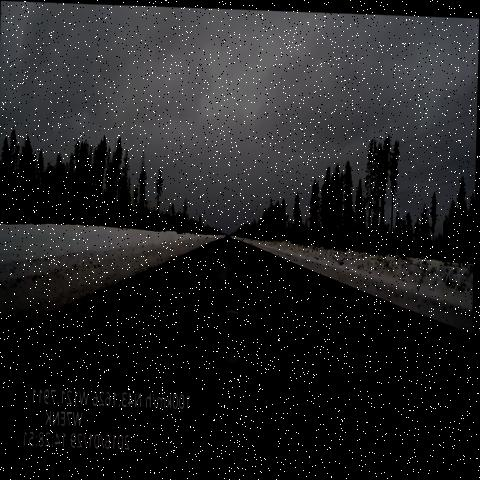pothole: (221, 337, 247, 370), (223, 296, 248, 330), (139, 317, 160, 340), (162, 298, 185, 313), (177, 281, 196, 296), (223, 328, 242, 343), (190, 267, 208, 278), (222, 246, 234, 257), (206, 247, 215, 260), (216, 240, 227, 247)
